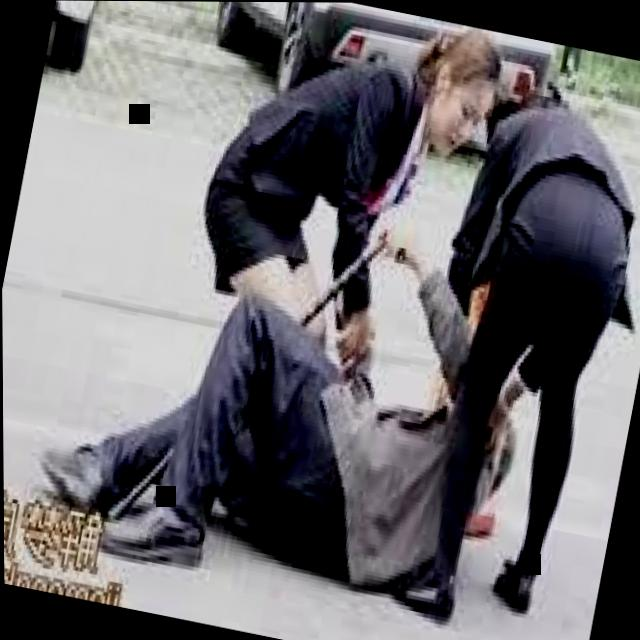Fall-Detected: (19, 147, 551, 635)
